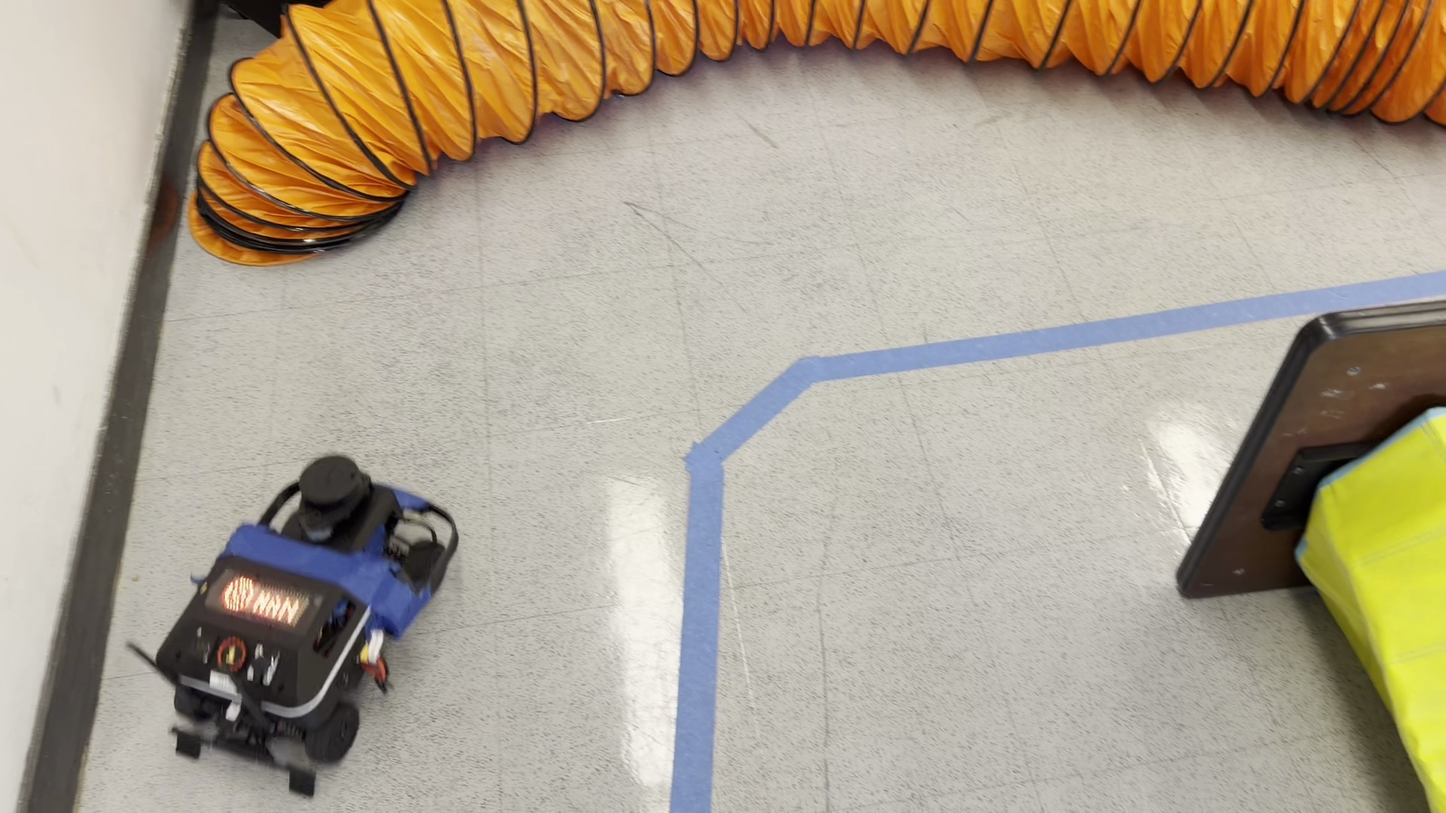racecar: (155, 455, 461, 794)
